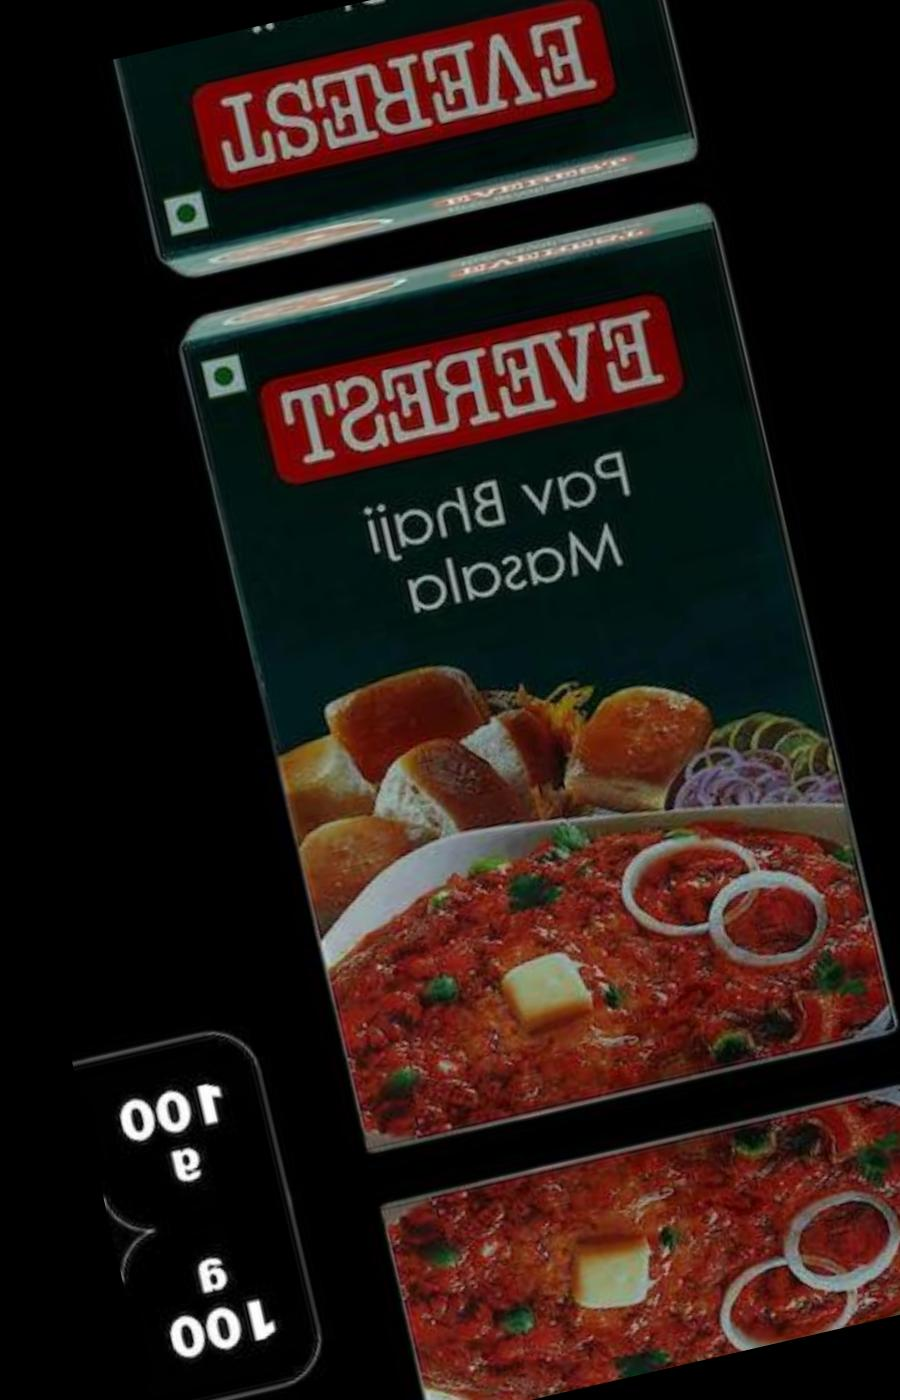Everest Pav Bhaji Masala 100 g: (156, 179, 900, 1164), (100, 0, 721, 302), (362, 1070, 900, 1400)
